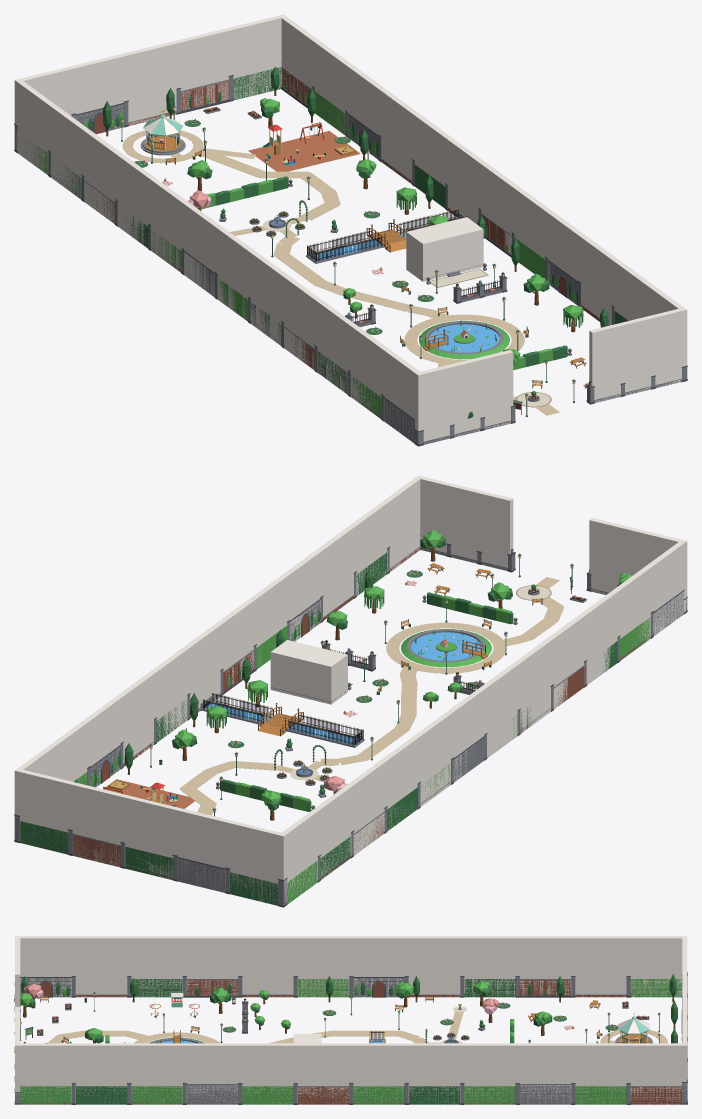
The model's file is CatCafe_Park_SetF85.glb.
3 views of the same model, one above another, from view 1: azimuth 30°, elevation 25°; view 2: azimuth 150°, elevation 25°; view 3: azimuth 270°, elevation 25° (orthographic). The views are drawn at different scales.
Parts seen in each view (by area): view 1: CatCafe_Park_SetF85_071_Walls_Barrier, CatCafe_Park_SetF85, CatCafe_Park_SetF85_124_Glasshouse_Barrier, CatCafe_Park_SetF85_085_Stream, CatCafe_Park_SetF85_109_Pond, CatCafe_Park_SetF85_172_Bandstand, CatCafe_Park_SetF85_109_Pond_Water, CatCafe_Park_SetF85_002_WallBrick, CatCafe_Park_SetF85_087_LowHedge, CatCafe_Park_SetF85_000_WallHedge, CatCafe_Park_SetF85_006_WallStone, CatCafe_Park_SetF85_009_WallStone (+5 smaller); view 2: CatCafe_Park_SetF85_071_Walls_Barrier, CatCafe_Park_SetF85, CatCafe_Park_SetF85_124_Glasshouse_Barrier, CatCafe_Park_SetF85_085_Stream, CatCafe_Park_SetF85_109_Pond, CatCafe_Park_SetF85_109_Pond_Water, CatCafe_Park_SetF85_006_WallStone, CatCafe_Park_SetF85_072_LowHedge, CatCafe_Park_SetF85_002_WallBrick, CatCafe_Park_SetF85_000_WallHedge, CatCafe_Park_SetF85_004_WallRail, CatCafe_Park_SetF85_008_WallHedge (+11 smaller); view 3: CatCafe_Park_SetF85_071_Walls_Barrier, CatCafe_Park_SetF85, CatCafe_Park_SetF85_048_WallStone, CatCafe_Park_SetF85_036_WallStone, CatCafe_Park_SetF85_034_WallHedge, CatCafe_Park_SetF85_038_WallRail, CatCafe_Park_SetF85_042_WallRail, CatCafe_Park_SetF85_046_WallHedge, CatCafe_Park_SetF85_050_WallRail, CatCafe_Park_SetF85_054_WallRail, CatCafe_Park_SetF85_044_WallBrick, CatCafe_Park_SetF85_052_WallHedge (+14 smaller).
Part boxes in pixels (x1,y1,x2,y2): CatCafe_Park_SetF85_071_Walls_Barrier: (14,14,687,444); CatCafe_Park_SetF85: (122,130,559,415); CatCafe_Park_SetF85_124_Glasshouse_Barrier: (406,217,483,281); CatCafe_Park_SetF85_085_Stream: (306,208,467,263); CatCafe_Park_SetF85_109_Pond: (419,321,509,359); CatCafe_Park_SetF85_172_Bandstand: (140,110,185,155); CatCafe_Park_SetF85_109_Pond_Water: (429,324,499,352); CatCafe_Park_SetF85_002_WallBrick: (180,79,229,113); CatCafe_Park_SetF85_087_LowHedge: (197,176,288,209); CatCafe_Park_SetF85_000_WallHedge: (233,67,281,99); CatCafe_Park_SetF85_006_WallStone: (75,103,124,134); CatCafe_Park_SetF85_009_WallStone: (383,397,414,443); CatCafe_Park_SetF85_071_Walls_Barrier: (14,475,687,905); CatCafe_Park_SetF85: (105,577,563,815); CatCafe_Park_SetF85_124_Glasshouse_Barrier: (270,640,347,704); CatCafe_Park_SetF85_085_Stream: (200,692,364,747); CatCafe_Park_SetF85_109_Pond: (401,629,491,667); CatCafe_Park_SetF85_109_Pond_Water: (411,632,481,660); CatCafe_Park_SetF85_006_WallStone: (177,857,225,892); CatCafe_Park_SetF85_072_LowHedge: (427,592,513,624); CatCafe_Park_SetF85_002_WallBrick: (72,833,120,867); CatCafe_Park_SetF85_000_WallHedge: (20,821,68,854); CatCafe_Park_SetF85_004_WallRail: (125,846,173,879); CatCafe_Park_SetF85_008_WallHedge: (230,872,278,905); CatCafe_Park_SetF85_071_Walls_Barrier: (15,936,687,1104); CatCafe_Park_SetF85: (14,1006,667,1052); CatCafe_Park_SetF85_048_WallStone: (186,1084,238,1104); CatCafe_Park_SetF85_036_WallStone: (519,1084,571,1104); CatCafe_Park_SetF85_034_WallHedge: (575,1086,626,1104); CatCafe_Park_SetF85_038_WallRail: (464,1086,515,1104); CatCafe_Park_SetF85_042_WallRail: (353,1086,404,1104); CatCafe_Park_SetF85_046_WallHedge: (242,1086,293,1104); CatCafe_Park_SetF85_050_WallRail: (131,1086,182,1104); CatCafe_Park_SetF85_054_WallRail: (20,1086,71,1104); CatCafe_Park_SetF85_044_WallBrick: (297,1086,349,1104); CatCafe_Park_SetF85_052_WallHedge: (76,1086,127,1104).
Bounding box in the file's own units: 120 × 30.05 × 310.
Materials: 1 (1 with a texture image).
